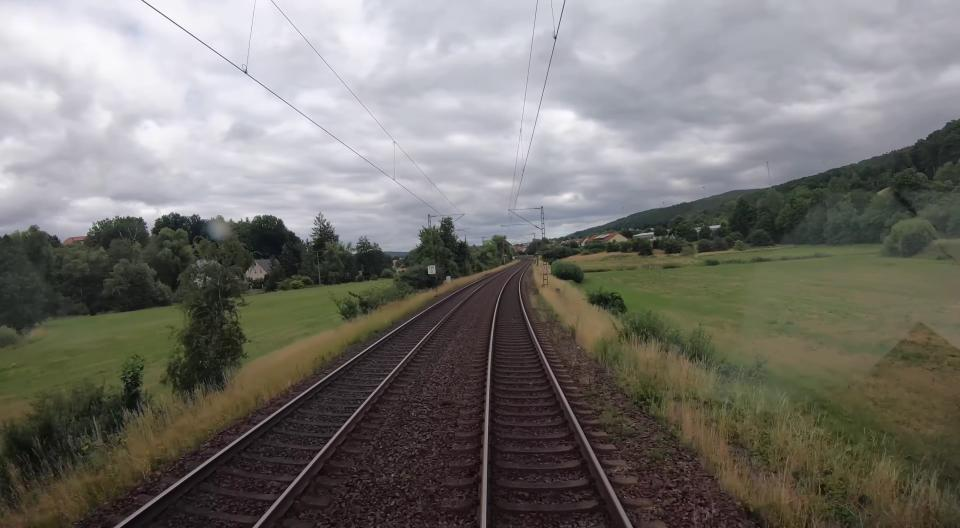Plant: (600, 404, 634, 437), (527, 292, 558, 321), (640, 448, 665, 461), (586, 399, 609, 411), (583, 390, 601, 397), (652, 433, 666, 441), (625, 401, 634, 409)
